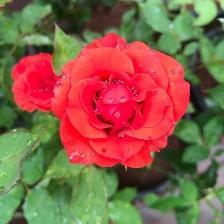rose: (52, 31, 191, 171)
